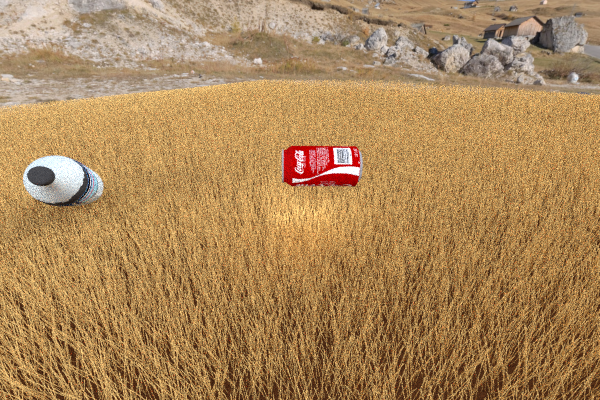Plastic Bottle: (23, 155, 103, 206), (281, 145, 362, 186), (299, 88, 331, 107)
